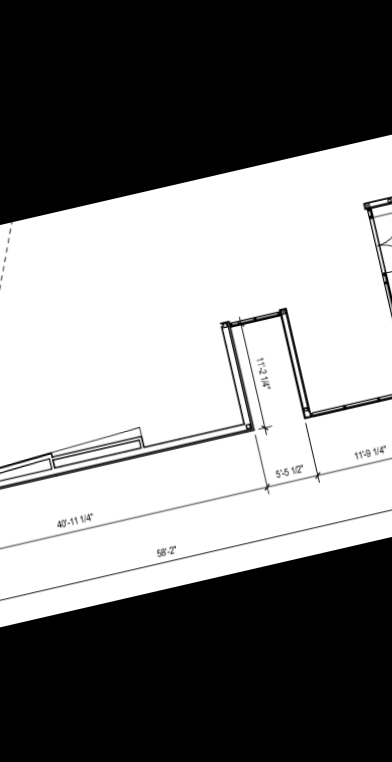double door: (369, 206, 392, 280)
